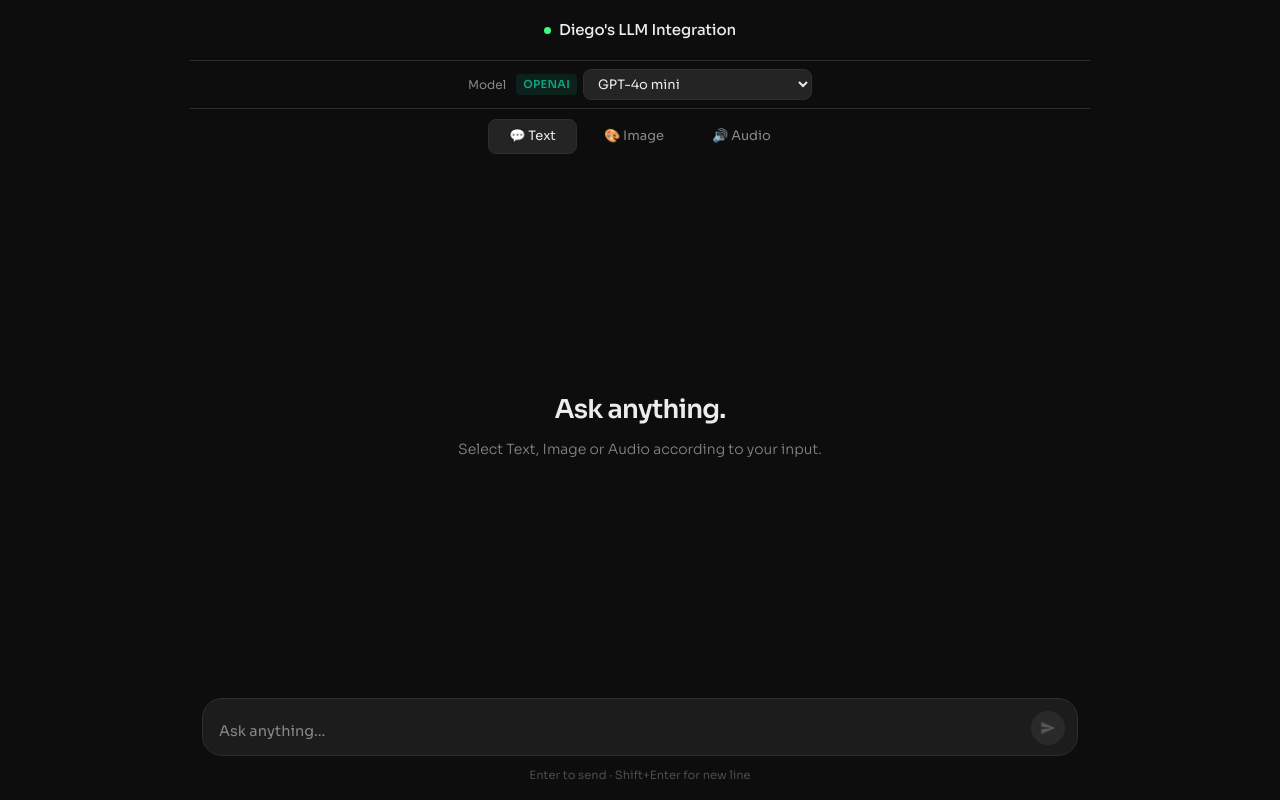
Test: Per-provider error boundary › shows a provider-tagged banner with a fallback switch on a rate-limit failure
Type "Hello" into the text box with placeholder "Ask anything...". click: point(621, 733)
box: [219,721,1023,745]
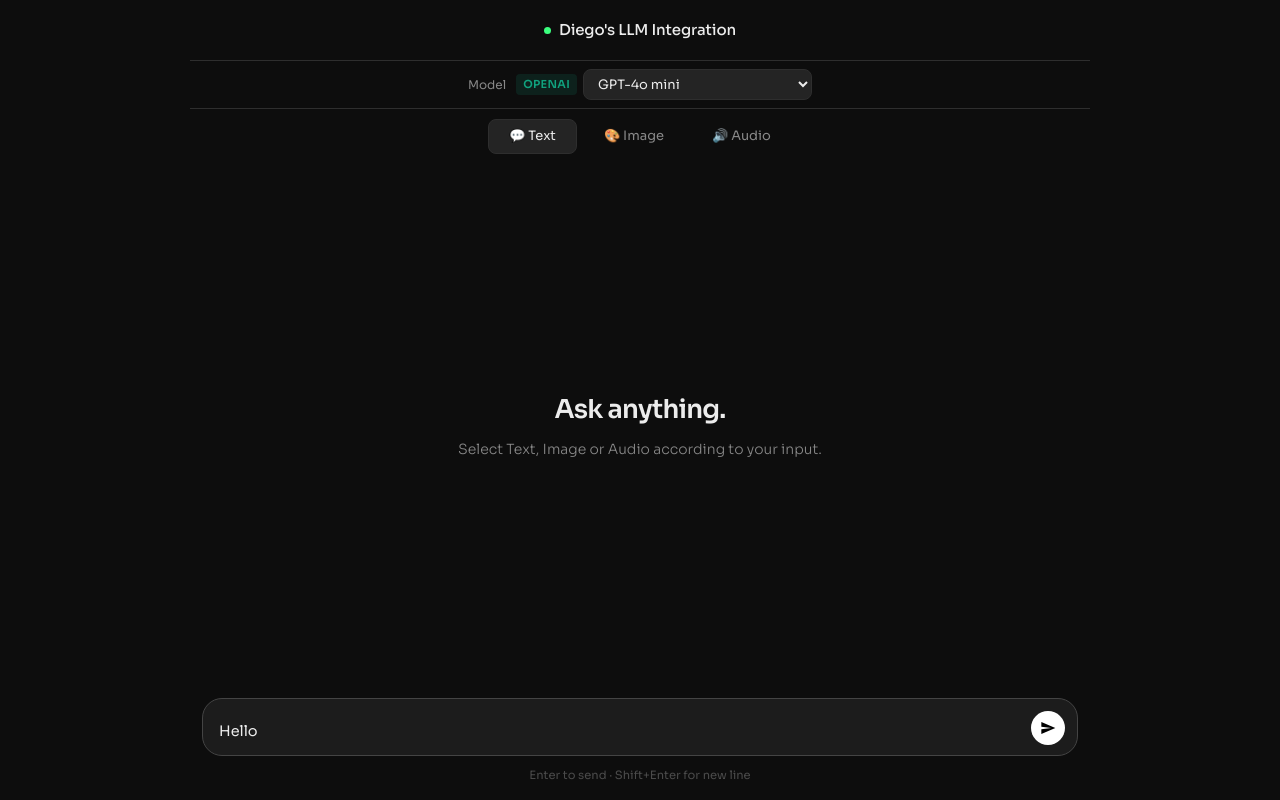
Click the button titled "Send". click: point(1048, 728)
box: [1031,711,1065,745]
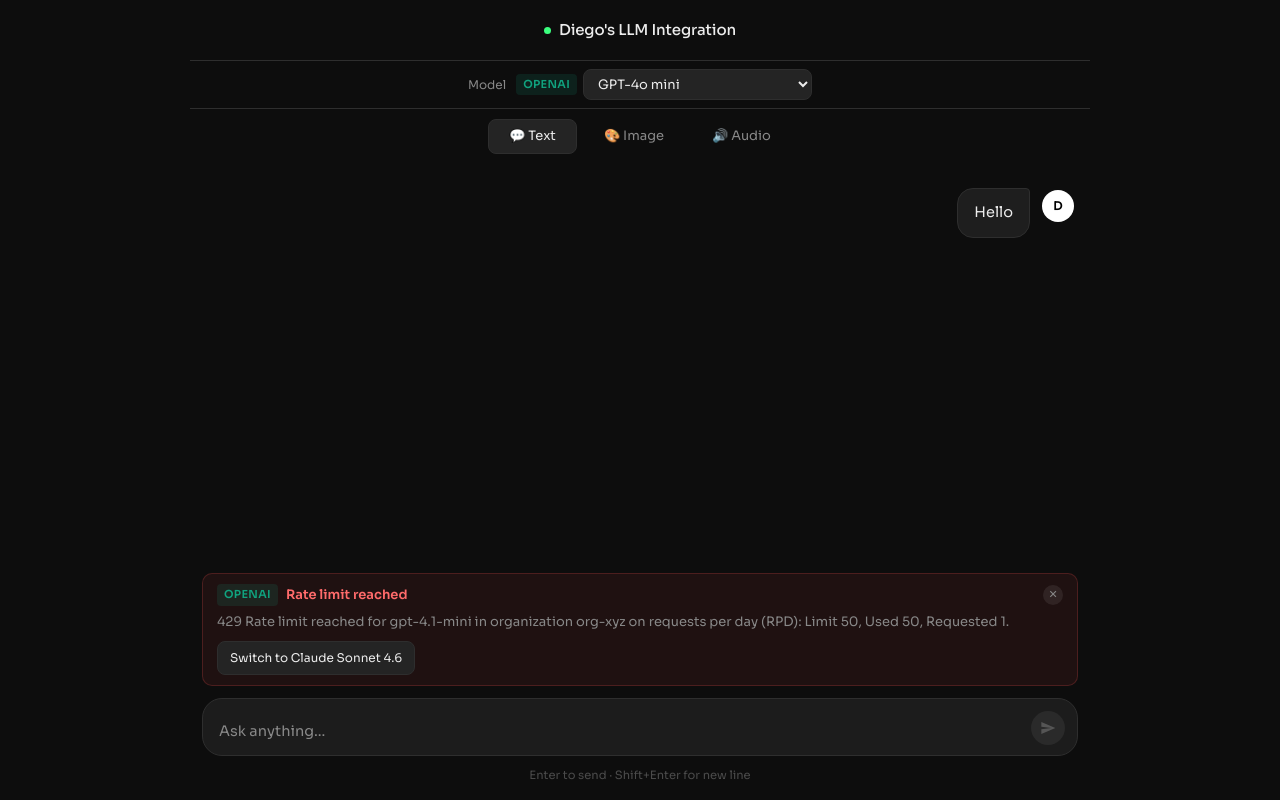
Result: the text "Rate limit reached" is shown at [286,586,408,603]
Result: the text "429 Rate limit reached for gpt-4.1-mini in organization org-xyz on requests per day (RPD): Limit 50, Used 50, Requested " is shown at [217,613,1009,630]
Click the button "Switch to Claude Sonnet 4.6". click: point(316, 658)
box: [217,641,415,675]
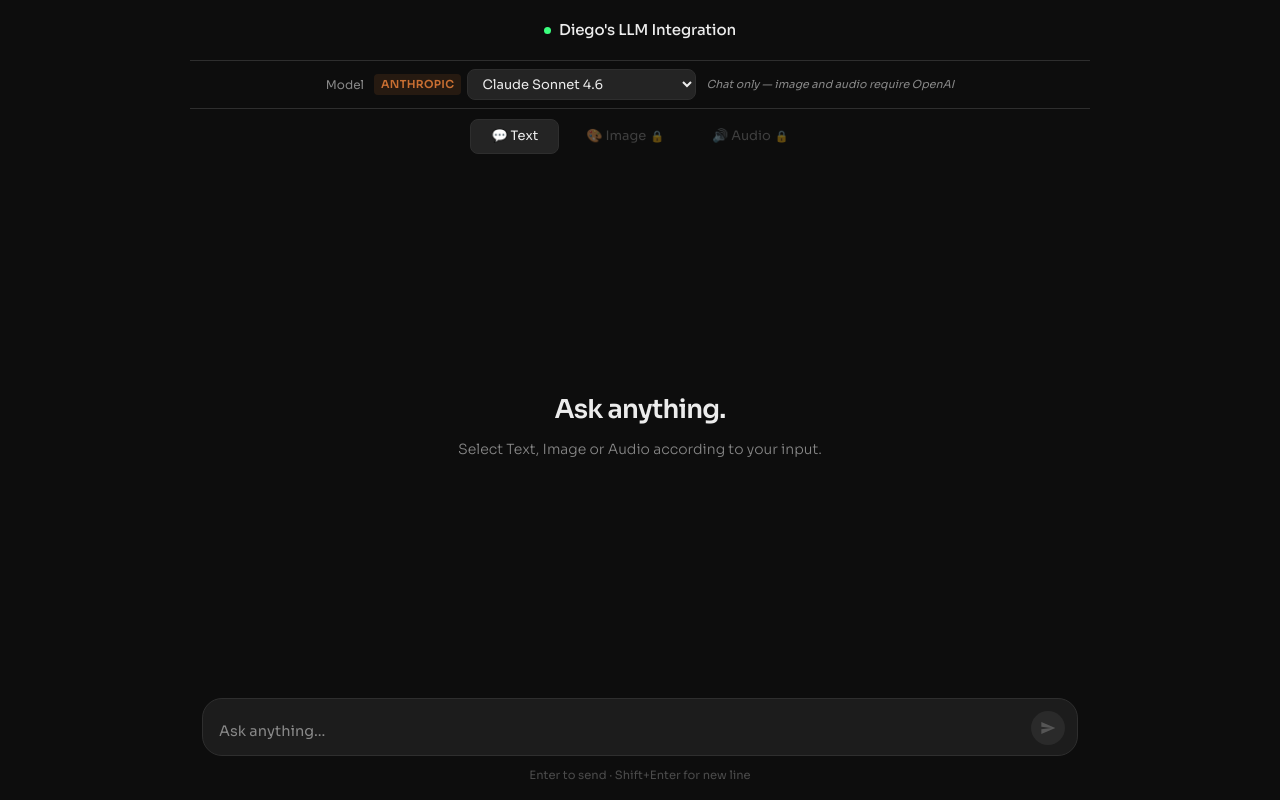
Result: the text "Rate limit reached" is gone
Result: the text labelled "Anthropic" is shown at [374,74,461,95]
